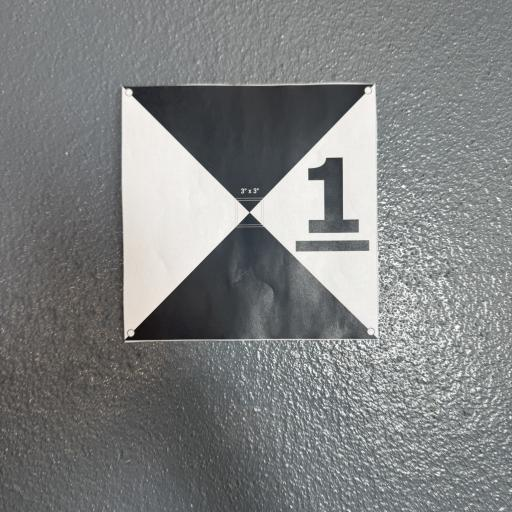target1: (120, 78, 376, 340)
